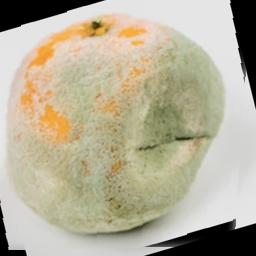Orange Rotten: (0, 0, 250, 250)
